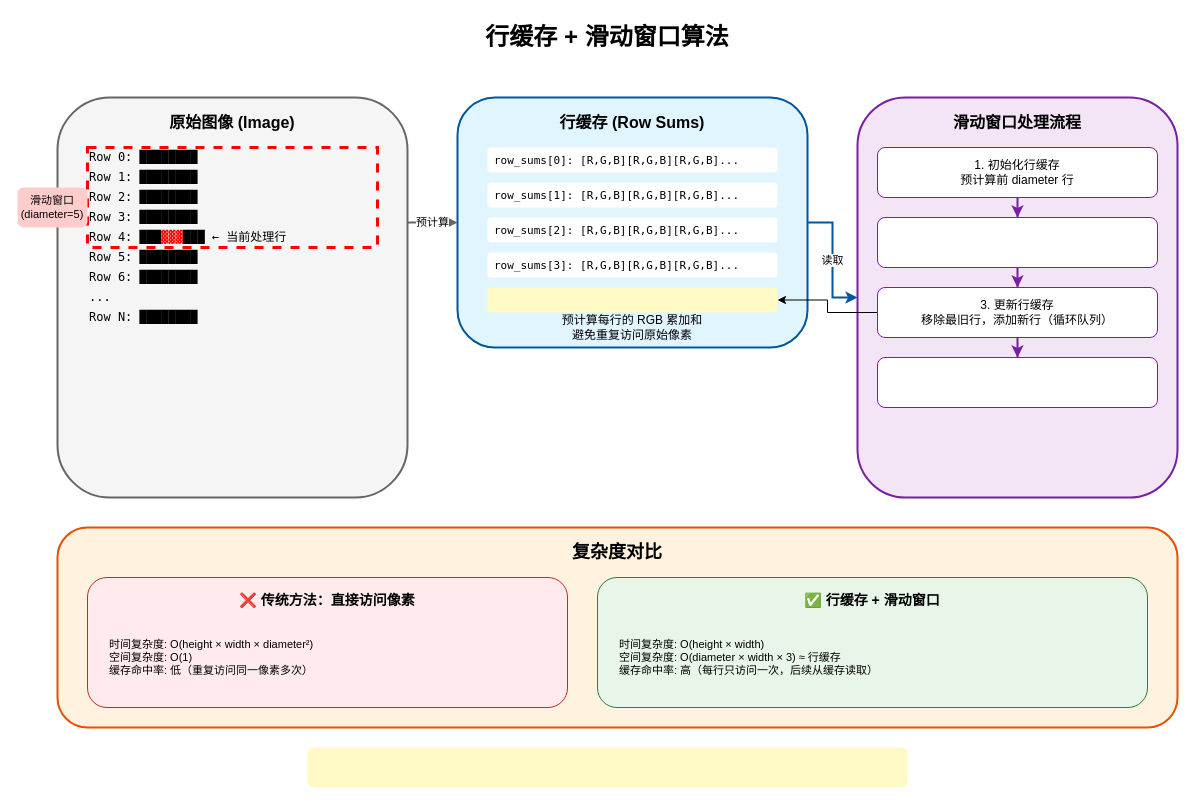
The diagram is 1195 pixels wide and 804 high, and some of its shapes have lost their labels. Each missing label, with the centre of its shape:
"2. 滑动窗口计算 利用行缓存累加，O(width) 而非 O(width×diameter²)" goes at point 1017,242.
"4. 输出结果 写入输出图像" goes at point 1017,382.
"row_sums[4]: [R,G,B][R,G,B][R,G,B]..." goes at point 632,299.
"关键优势： 将 O(diameter²) 的重复计算转化为 O(1) 的缓存读取， 特别适合大直径滤波器（如高斯模糊、中值滤波）" goes at point 607,767.
